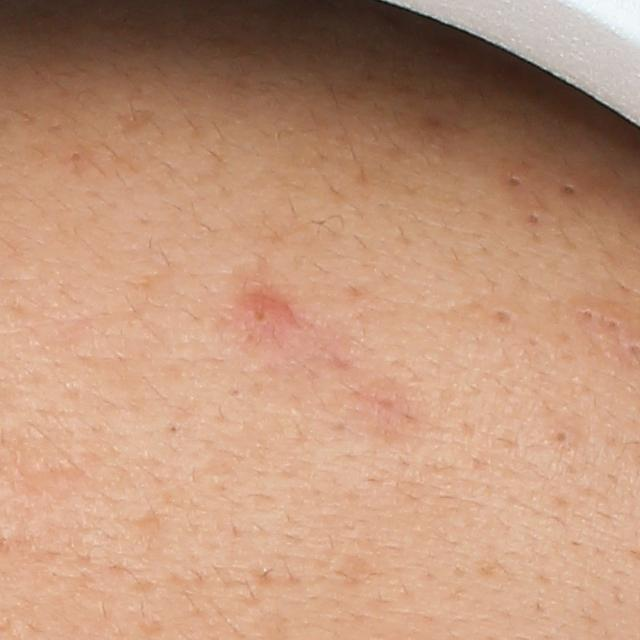comedo: (551, 429, 575, 449), (162, 420, 186, 440), (558, 180, 581, 199), (493, 307, 515, 325), (508, 174, 525, 193), (579, 307, 598, 322), (524, 214, 544, 228), (605, 317, 622, 331)
papule: (243, 285, 308, 347)
